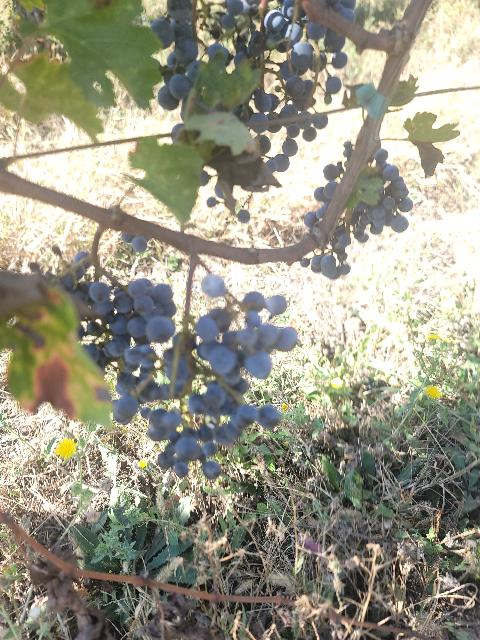grapes: (112, 329, 280, 480), (151, 0, 348, 121), (60, 275, 176, 424), (196, 274, 298, 379), (354, 149, 412, 241)
